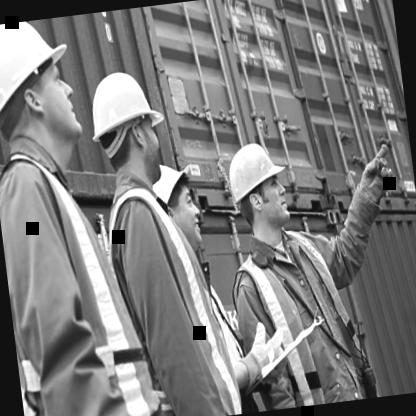helmet: (0, 15, 84, 157), (84, 66, 169, 190), (224, 138, 294, 236), (145, 157, 204, 254)
